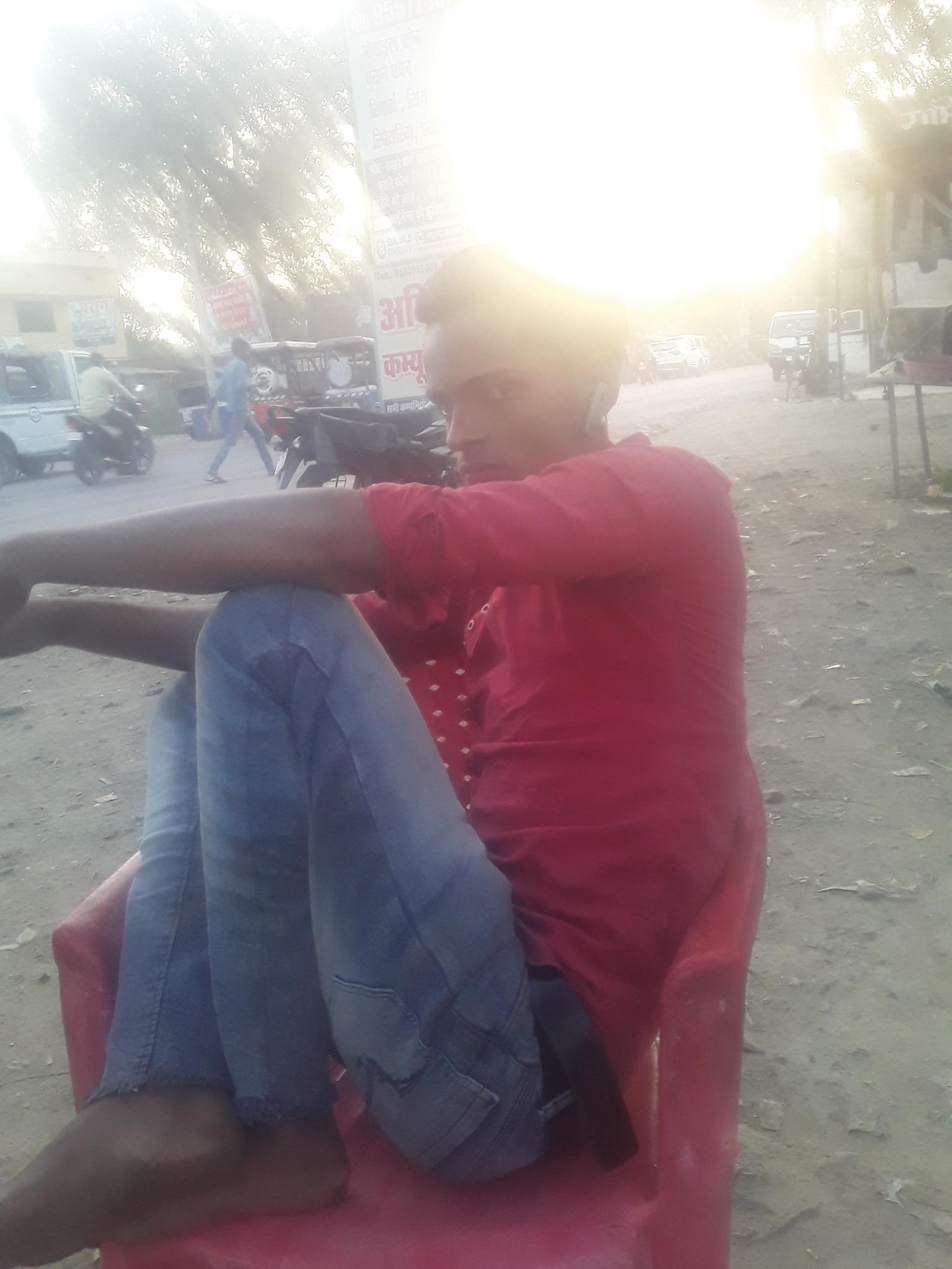Non-emergency: (48, 281, 391, 453)
